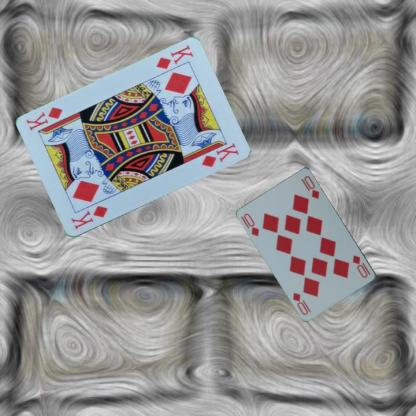10d: (350, 253, 372, 279), (241, 210, 261, 238)
Kd: (153, 42, 195, 71), (68, 203, 109, 231)
